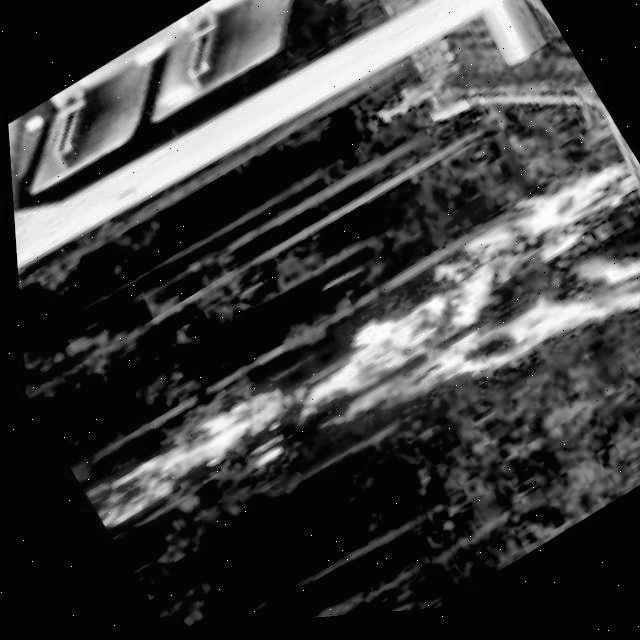Fire: (49, 141, 640, 617)
